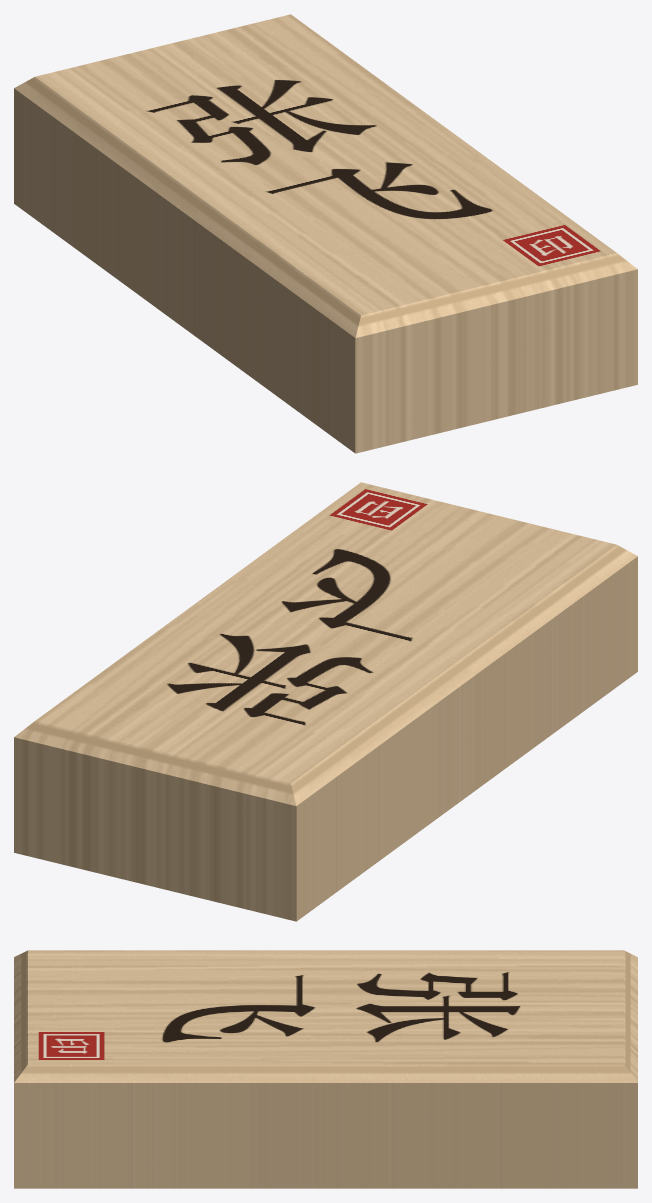
Rendered from tile_zhang.glb.
3 renders of one model, top to bottom at view 1: azimuth 30°, elevation 25°; view 2: azimuth 150°, elevation 25°; view 3: azimuth 270°, elevation 25°, orthographic. The views are drawn at different scales.
Visible parts, largest first — view 1: tile_zhang; view 2: tile_zhang; view 3: tile_zhang.
Boxes of the visible parts, box(x1,y1,x2,y2) form: tile_zhang: box(14, 14, 637, 453); tile_zhang: box(14, 482, 637, 921); tile_zhang: box(14, 950, 637, 1188).
Bounding box in the file's own units: 0.064 × 0.028 × 0.134.
1 material, 1 textured.
